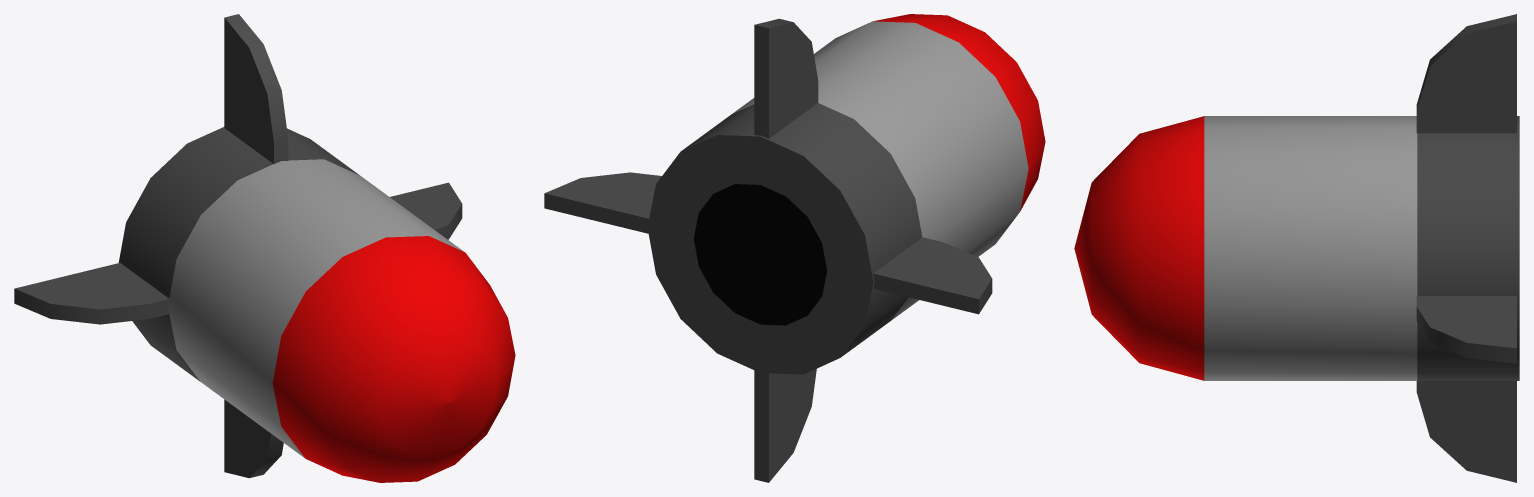
The model's file is rocket.fbx.
3 views of the same model, side by side, from view 1: azimuth 30°, elevation 25°; view 2: azimuth 150°, elevation 25°; view 3: azimuth 270°, elevation 25° (orthographic).
Visible parts, largest first — view 1: Cube.002; view 2: Cube.002; view 3: Cube.002.
Part boxes in pixels (<box>): Cube.002: <box>14,14,515,482</box>; Cube.002: <box>544,14,1045,482</box>; Cube.002: <box>1074,14,1519,482</box>.
Bounding box in the file's own units: 171 × 171 × 149.
